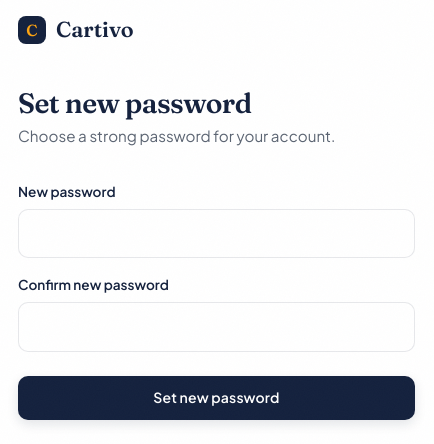
Test case: ResetPasswordPage › shows success message
Type "StrongPass1" into the password field labelled "New password" at (216,233), box [18, 209, 415, 258]
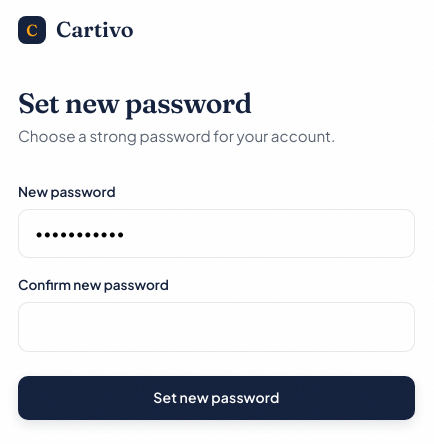
Type "StrongPass1" into the password field labelled "Confirm new password" at (216,327), box [18, 302, 415, 352]
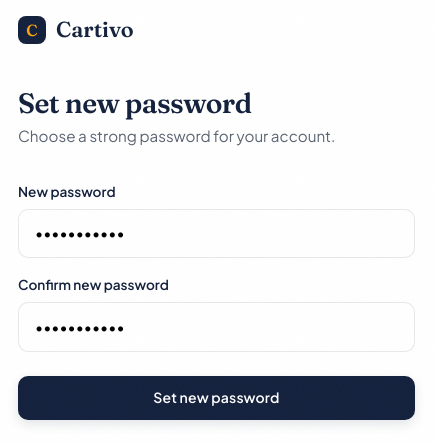
Click the button "Set new password" at (216,398), box [18, 376, 415, 420]
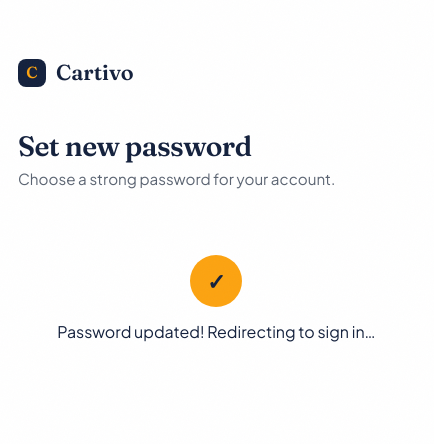
expect the text "Password updated! Redirecting to sign in…" is shown: met, box [57, 319, 376, 345]
